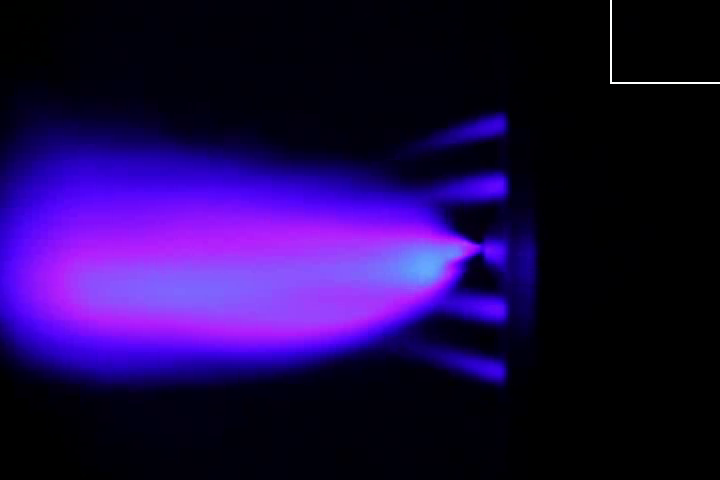burner cap: (481, 236, 508, 270)
pilot flame: (401, 336, 509, 388), (407, 108, 507, 149), (410, 174, 509, 207), (436, 294, 506, 324)
stable: (28, 206, 484, 333)
